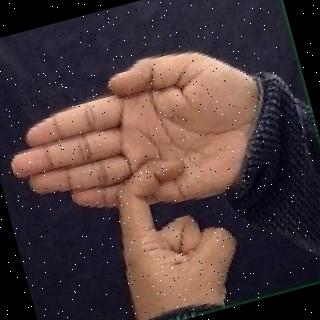R: (0, 27, 300, 320)
